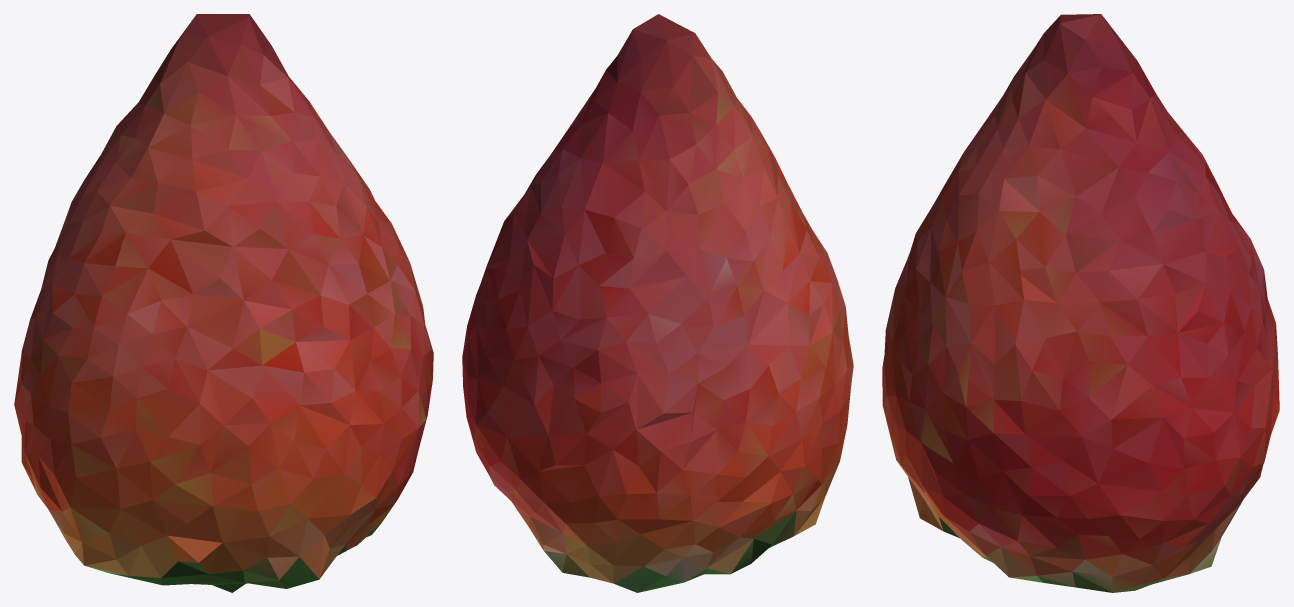
3 views of the same model, side by side, from view 1: azimuth 30°, elevation 25°; view 2: azimuth 150°, elevation 25°; view 3: azimuth 270°, elevation 25° (orthographic). The views are drawn at different scales.
Parts seen in each view (by area): view 1: strawberry_03_visual; view 2: strawberry_03_visual; view 3: strawberry_03_visual.
Boxes of the visible parts, x1,y1,x2,y2 form: strawberry_03_visual: [14, 14, 433, 592]; strawberry_03_visual: [462, 14, 853, 592]; strawberry_03_visual: [882, 14, 1279, 592].
Size of the model in its own units: 0.8735 by 0.8556 by 1.33.
